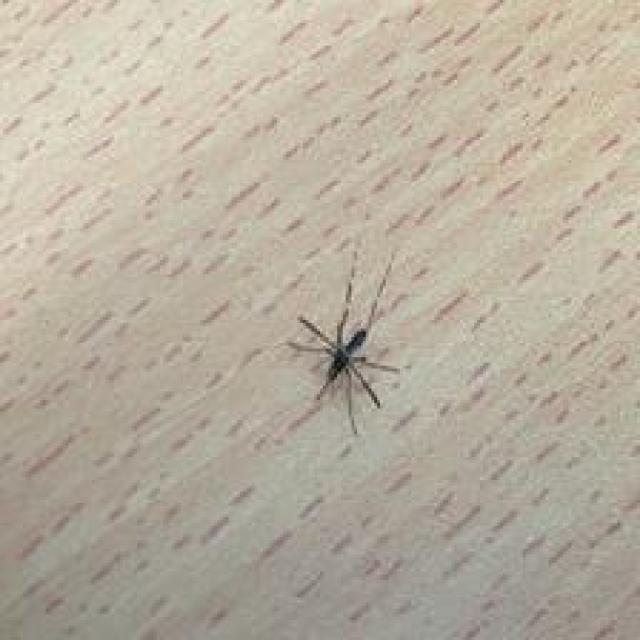Aedes albopictus: (286, 250, 403, 436)
